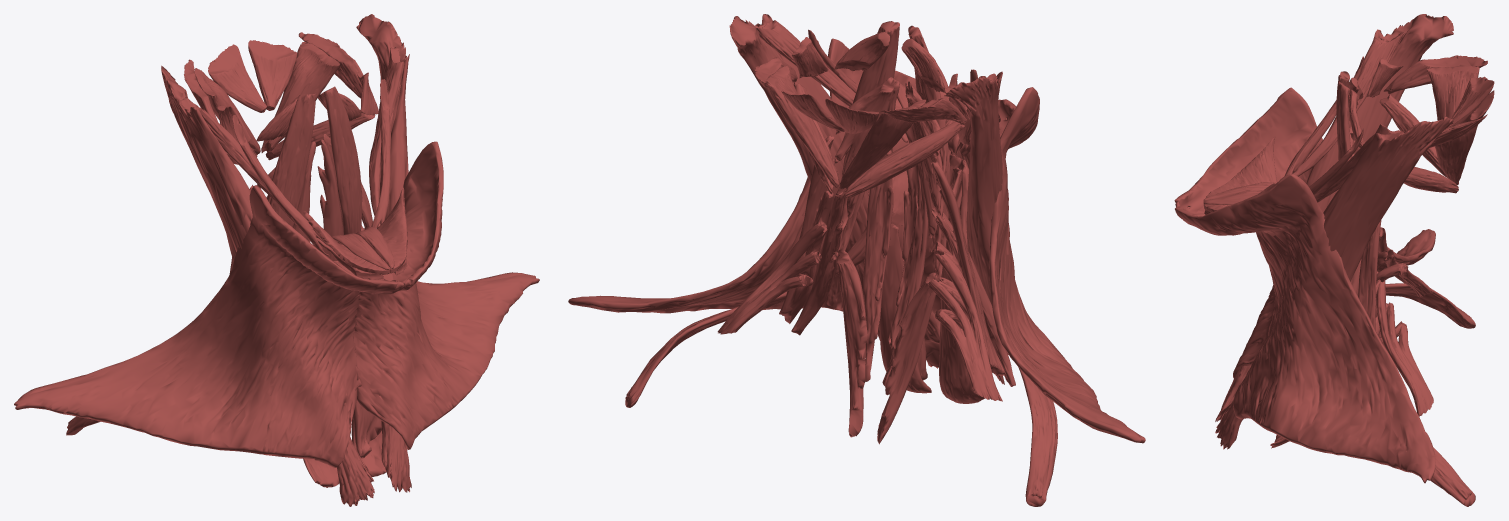
The model's file is neck.glb.
3 renders of one model, left to right at view 1: azimuth 30°, elevation 25°; view 2: azimuth 150°, elevation 25°; view 3: azimuth 270°, elevation 25°, orthographic. The views are drawn at different scales.
Visible parts, largest first — view 1: FMA45739, FMA45740, FMA13408, FMA13409, FMA46310, FMA46309, FMA32531, FMA32533, FMA32532, FMA46307, FMA45826, FMA45827 (+15 smaller); view 2: FMA45739, FMA45740, FMA13408, FMA13409, FMA46286, FMA13388, FMA46285, FMA13348, FMA46287, FMA46288, FMA13390, FMA13389 (+21 smaller); view 3: FMA45740, FMA13409, FMA45739, FMA13408, FMA13389, FMA46306, FMA32530, FMA13391, FMA32534, FMA46321, FMA32531, FMA13348 (+16 smaller).
Boxes of the visible parts, left/top/right/bottom form: FMA45739: left=14, top=185, right=404, bottom=467; FMA45740: left=353, top=141, right=539, bottom=449; FMA13408: left=161, top=65, right=374, bottom=506; FMA13409: left=356, top=14, right=411, bottom=492; FMA46310: left=324, top=86, right=362, bottom=234; FMA46309: left=267, top=93, right=315, bottom=227; FMA32531: left=261, top=42, right=339, bottom=152; FMA32533: left=248, top=40, right=297, bottom=110; FMA32532: left=208, top=44, right=267, bottom=112; FMA46307: left=369, top=47, right=404, bottom=228; FMA45826: left=232, top=114, right=329, bottom=256; FMA45827: left=371, top=79, right=390, bottom=228; FMA45739: left=949, top=87, right=1145, bottom=443; FMA45740: left=568, top=38, right=951, bottom=313; FMA13408: left=944, top=71, right=1004, bottom=384; FMA13409: left=729, top=14, right=940, bottom=368; FMA46286: left=863, top=81, right=899, bottom=381; FMA13388: left=927, top=250, right=1002, bottom=401; FMA46285: left=882, top=83, right=928, bottom=386; FMA13348: left=960, top=159, right=1057, bottom=506; FMA46287: left=877, top=272, right=938, bottom=444; FMA46288: left=836, top=251, right=867, bottom=437; FMA13390: left=931, top=161, right=1006, bottom=375; FMA13389: left=717, top=223, right=824, bottom=334; FMA45740: left=1175, top=174, right=1435, bottom=483; FMA13409: left=1215, top=116, right=1453, bottom=449; FMA45739: left=1174, top=87, right=1435, bottom=378; FMA13408: left=1215, top=14, right=1453, bottom=421; FMA13389: left=1376, top=279, right=1433, bottom=416; FMA46306: left=1293, top=32, right=1404, bottom=176; FMA32530: left=1426, top=66, right=1479, bottom=120; FMA13391: left=1358, top=220, right=1406, bottom=345; FMA32534: left=1383, top=55, right=1487, bottom=94; FMA46321: left=1206, top=136, right=1277, bottom=197; FMA32531: left=1435, top=120, right=1477, bottom=183; FMA13348: left=1385, top=283, right=1475, bottom=328.
Size of the model in its own units: 0.2733 by 0.1879 by 0.1474.
